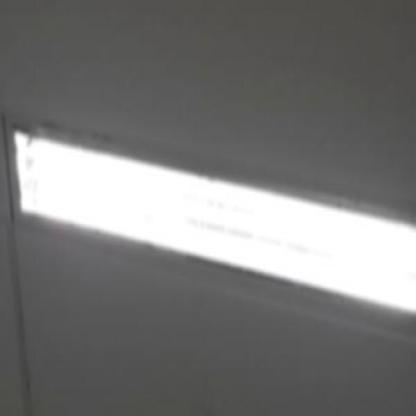light_on: (0, 88, 415, 361)
